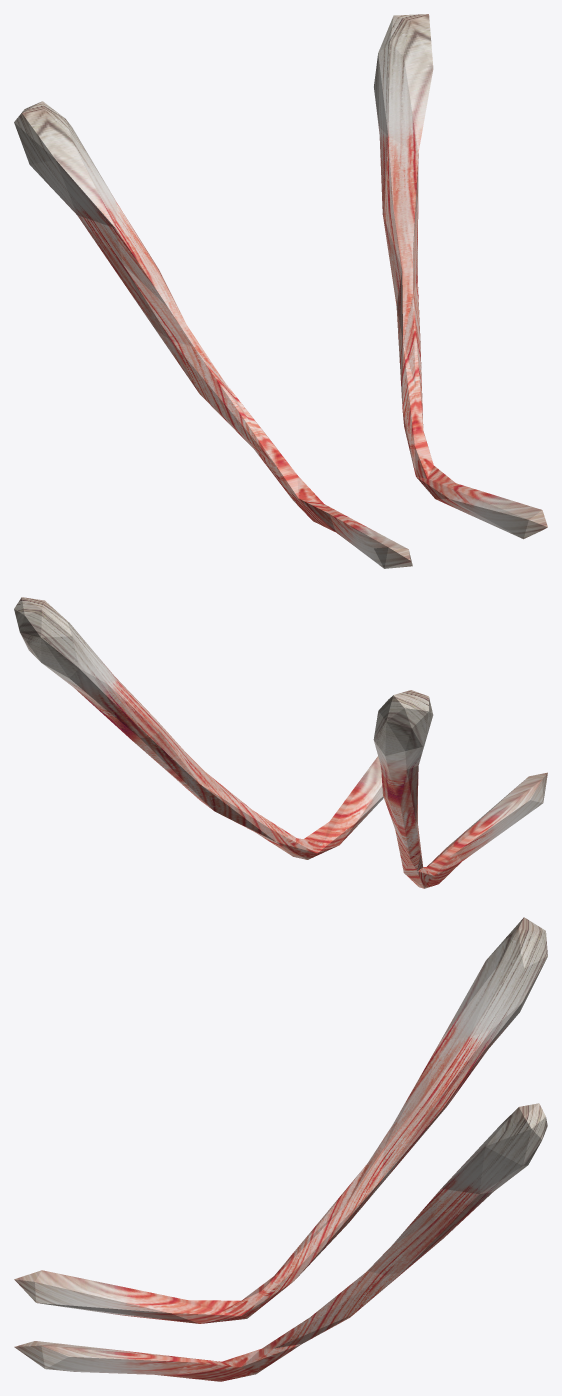
The model's file is Digastric.obj.
3 views of the same model, one above another, from view 1: azimuth 30°, elevation 25°; view 2: azimuth 150°, elevation 25°; view 3: azimuth 270°, elevation 25° (orthographic).
Visible parts, largest first — view 1: Musculos_Cabeza_1:Digastric:Digastric; view 2: Musculos_Cabeza_1:Digastric:Digastric; view 3: Musculos_Cabeza_1:Digastric:Digastric.
Part boxes in pixels (<box>): Musculos_Cabeza_1:Digastric:Digastric: <box>14,14,547,568</box>; Musculos_Cabeza_1:Digastric:Digastric: <box>14,597,547,888</box>; Musculos_Cabeza_1:Digastric:Digastric: <box>14,917,547,1381</box>.
Size of the model in its own units: 0.455 by 0.3479 by 0.5043.
Materials: 1 (1 with a texture image).
